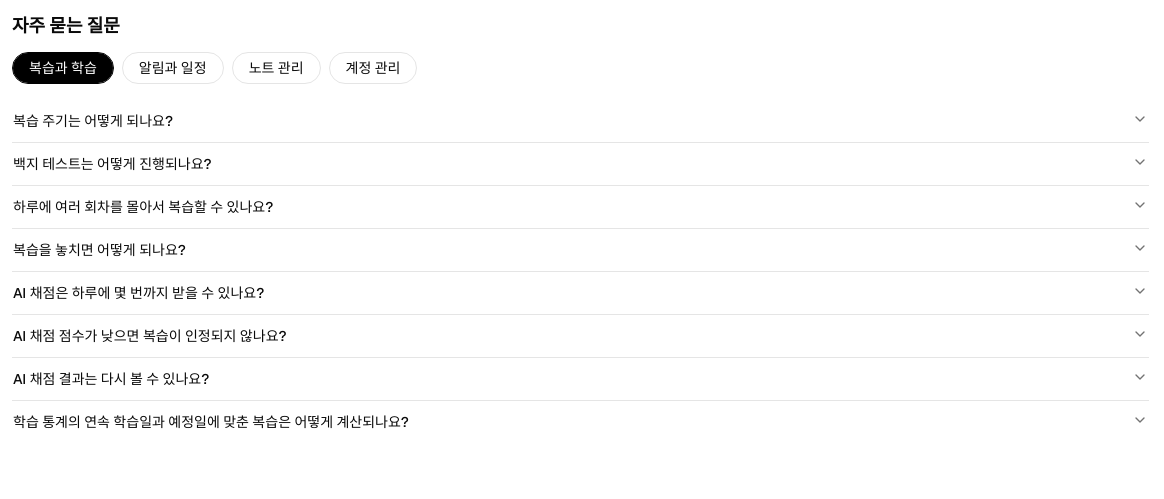
Scenario: FaqSection › 선택한 유형의 FAQ만 보여주고 1:1 문의 FAQ는 제공하지 않는다
Check: the button "복습 알림은 언제 오나요?" is not shown
Click the button "알림과 일정": (173, 68) [122,52,224,84]
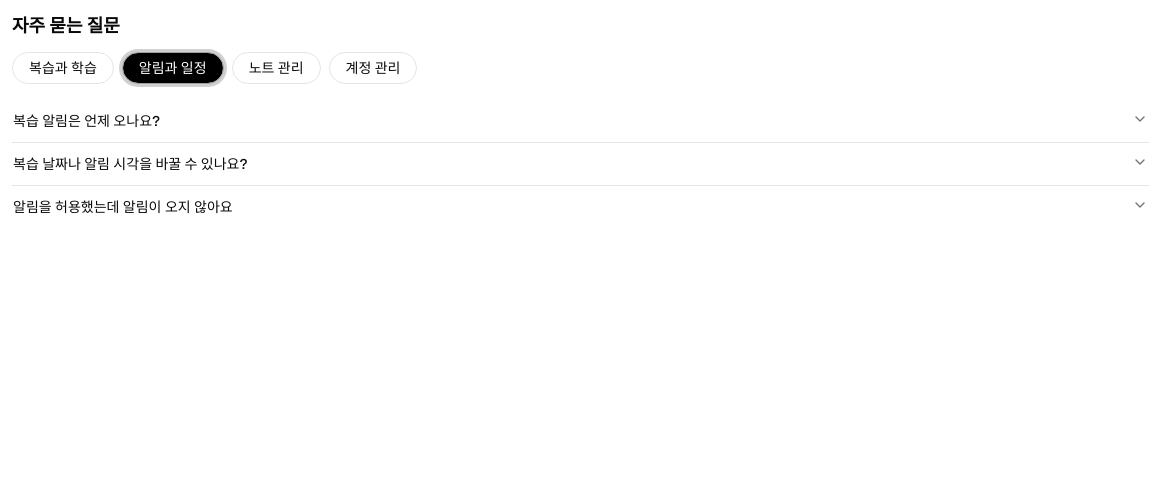
Check: the button "복습 알림은 언제 오나요?" is shown, box [12,100,1149,142]
Check: the button "복습 주기는 어떻게 되나요?" is gone
Click the button "복습과 학습": (63, 68) [12,52,114,84]
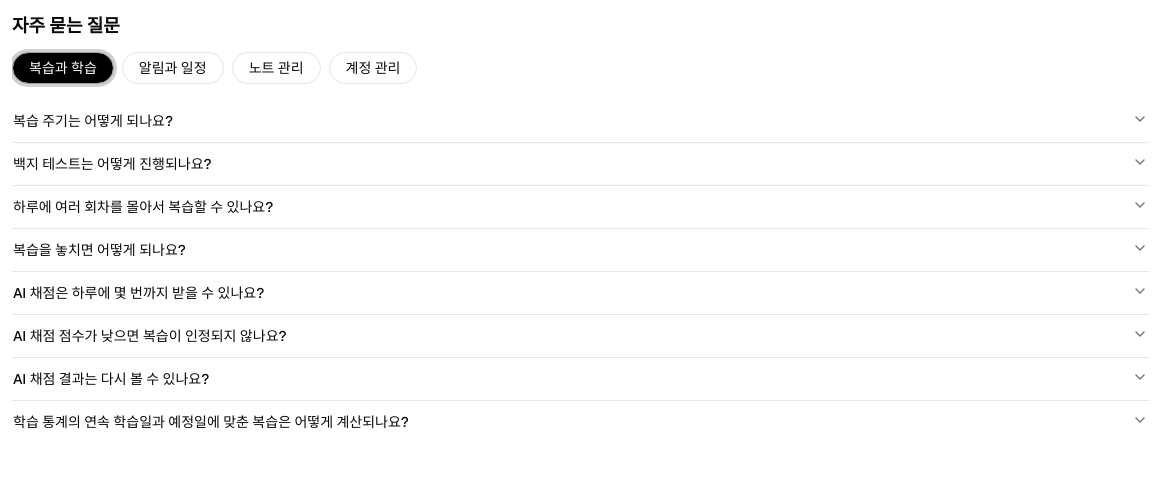
Click the button "복습 주기는 어떻게 되나요?": (93, 121) [12,100,1149,142]
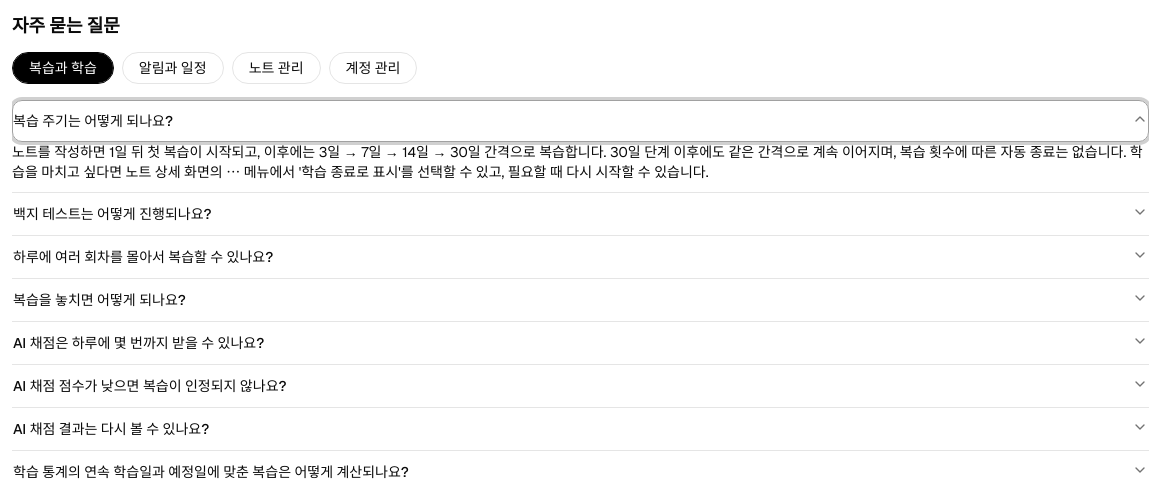
Check: the text "30일 단계 이후에도 같은 간격으로 계속 이어지며" is shown, box [12,143,1143,181]
Click the button "하루에 여러 회차를 몰아서 복습할 수 있나요?": (143, 257) [12,236,1149,278]
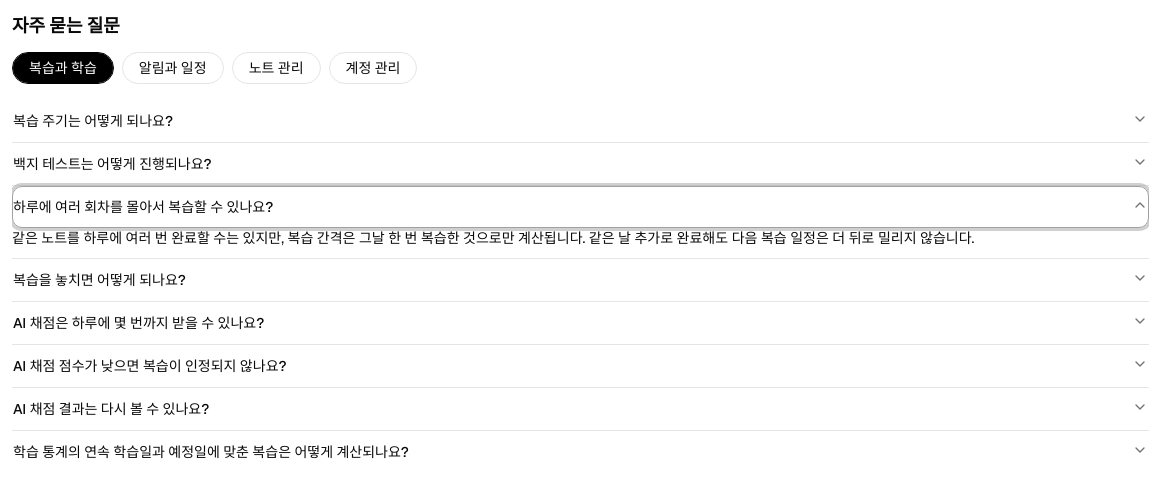
Check: the text "그날 한 번 복습한 것으로만 계산됩니다" is shown, box [12,229,974,247]
Click the button "AI 채점은 하루에 몇 번까지 받을 수 있나요?": (139, 323) [12,302,1149,344]
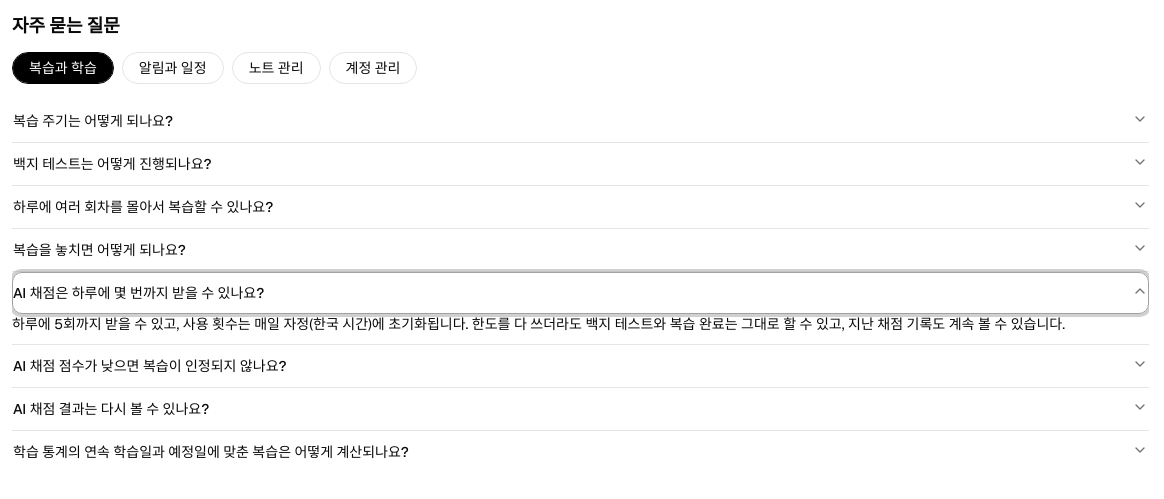
Check: the text "사용 횟수는 매일 자정(한국 시간)에 초기화됩니다" is shown, box [12,315,1065,333]
Click the button "학습 통계의 연속 학습일과 예정일에 맞춘 복습은 어떻게 계산되나요?": (211, 452) [12,431,1149,473]
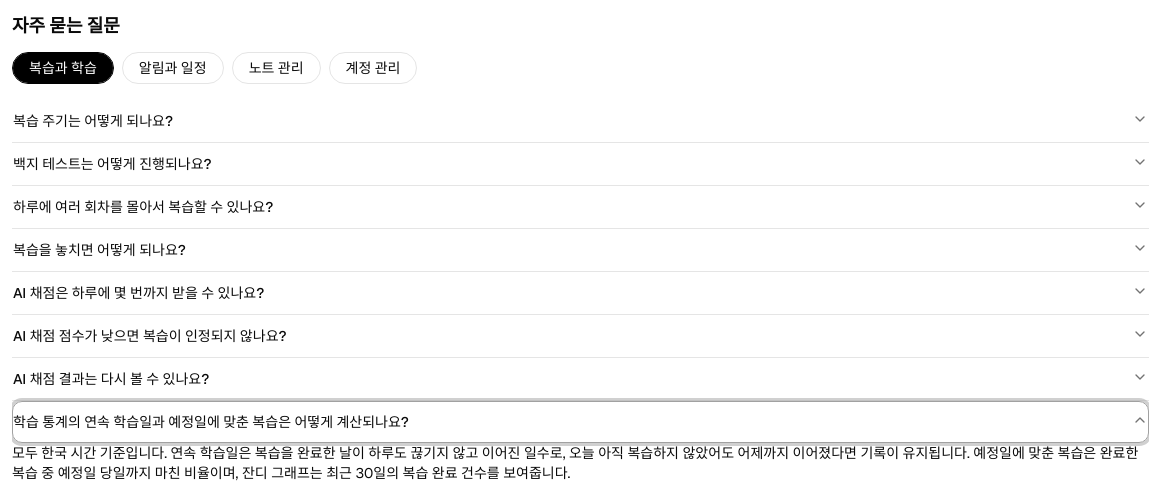
Check: the text "모두 한국 시간 기준입니다" is shown, box [12,444,1138,482]
